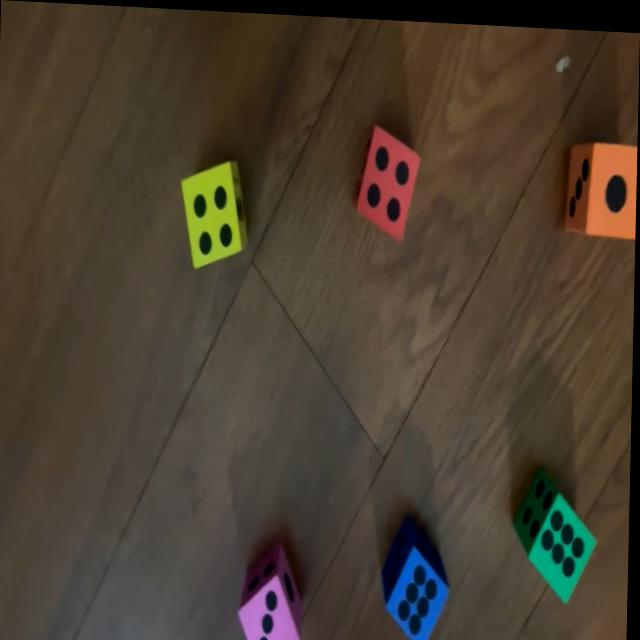cube: (513, 466, 597, 597), (382, 510, 452, 640), (353, 122, 422, 240)
